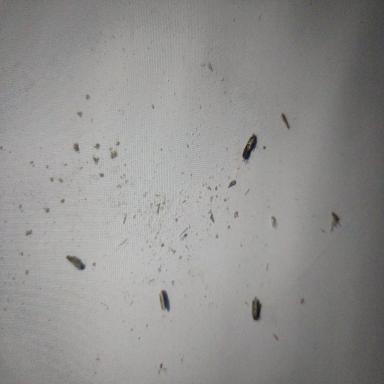pbw: (242, 133, 258, 163), (250, 296, 262, 320), (66, 255, 85, 270), (158, 289, 167, 310)
